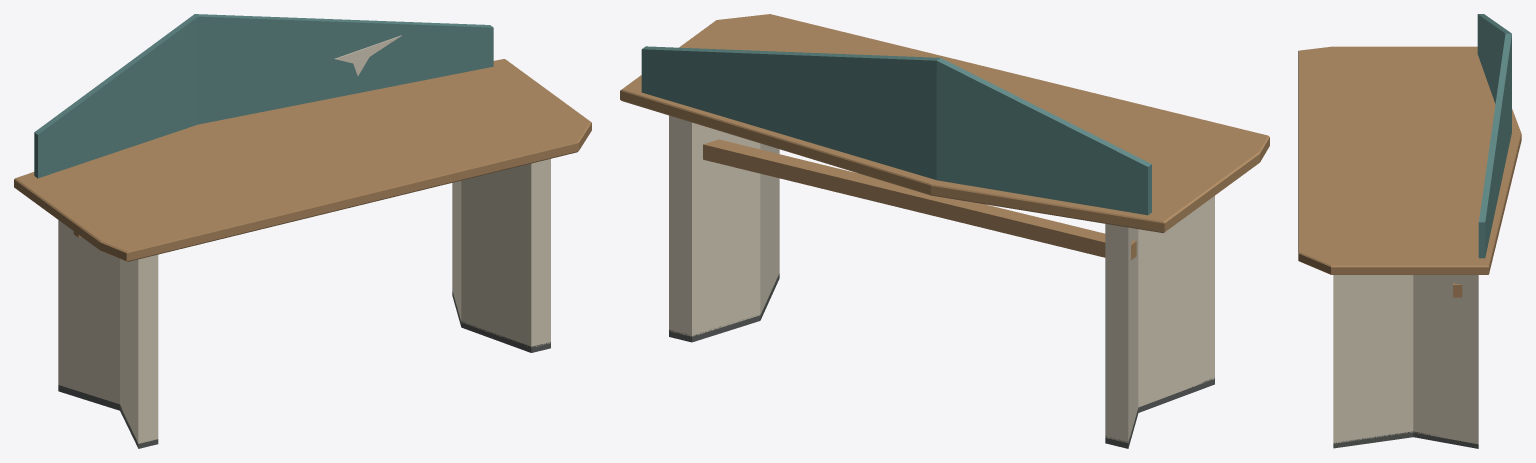
The model's file is paperplane-station.glb.
The picture shows the model from 3 angles, left to right: view 1: azimuth 30°, elevation 25°; view 2: azimuth 150°, elevation 25°; view 3: azimuth 270°, elevation 25°; orthographic projection. The views are drawn at different scales.
Visible parts, largest first — view 1: Station_wood, Station_teal, Station_ivory, Station_shoe; view 2: Station_teal, Station_wood, Station_ivory, Station_shoe; view 3: Station_wood, Station_ivory, Station_teal, Station_shoe.
Part boxes in pixels (x1,y1,x2,y2): Station_wood: (14,59,591,261); Station_teal: (34,14,493,178); Station_ivory: (58,35,550,443); Station_shoe: (58,291,550,448); Station_teal: (641,46,1151,215); Station_wood: (620,14,1269,260); Station_ivory: (669,115,1214,442); Station_shoe: (669,273,1214,448); Station_wood: (1298,46,1521,297); Station_ivory: (1333,275,1478,444); Station_teal: (1477,14,1511,258); Station_shoe: (1333,431,1478,448).
Size of the model in its own units: 2.24 by 1.42 by 0.96.
